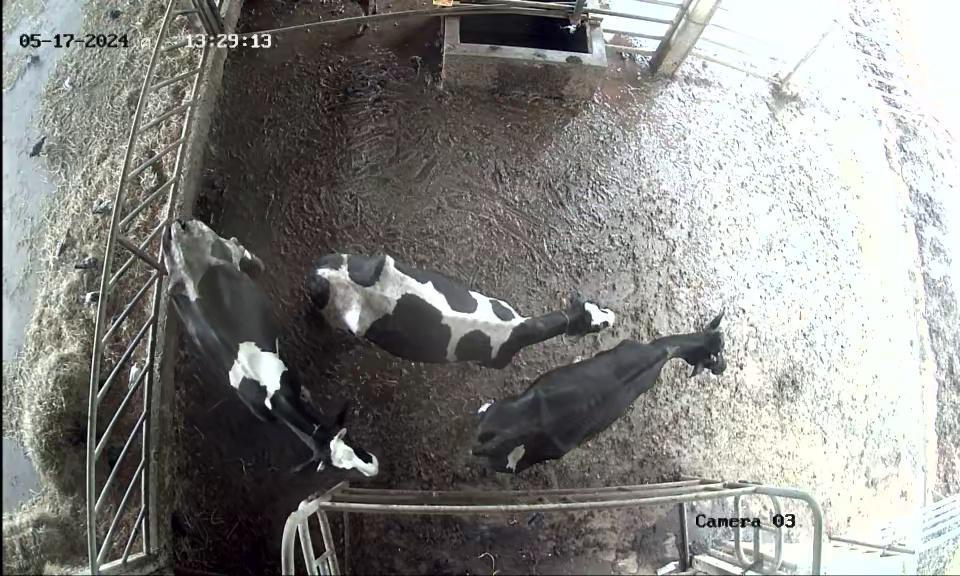stand: (155, 208, 385, 484), (426, 303, 766, 471), (307, 228, 615, 370)
